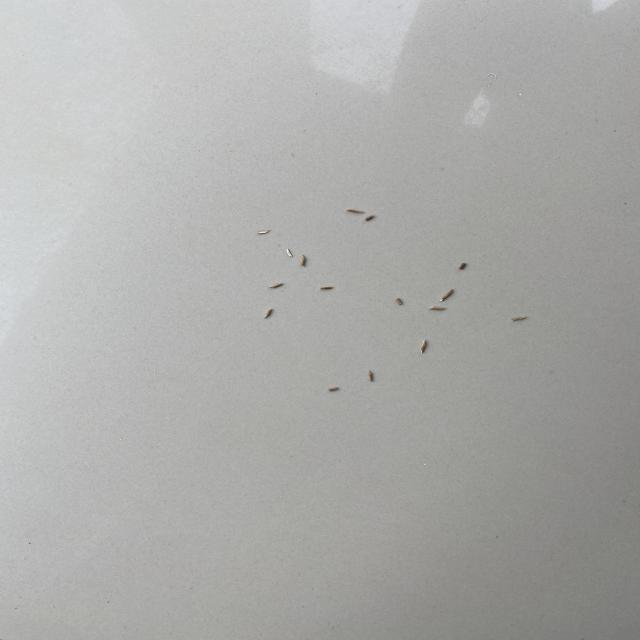Wereng: (413, 336, 437, 356), (336, 205, 372, 217), (436, 286, 458, 304), (504, 312, 534, 325), (362, 365, 379, 385), (452, 258, 476, 272), (258, 306, 278, 321), (280, 244, 298, 260), (316, 282, 340, 294), (298, 253, 314, 271), (253, 225, 275, 238), (266, 280, 292, 291), (425, 303, 450, 314), (323, 384, 344, 396), (392, 294, 406, 310), (363, 212, 379, 225)
